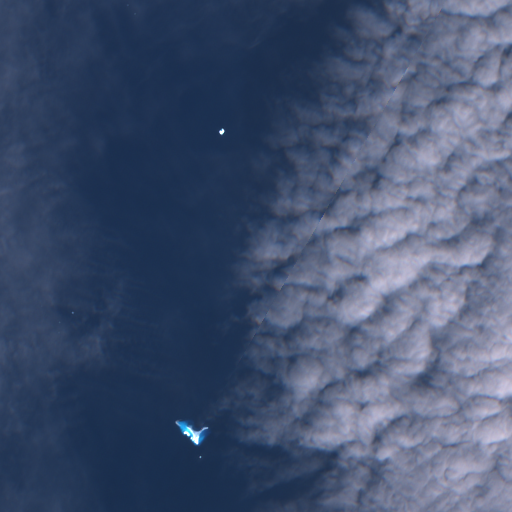Iceberg: (175, 420, 208, 444), (219, 128, 224, 134), (199, 456, 201, 458), (72, 312, 73, 313), (59, 321, 60, 322)
